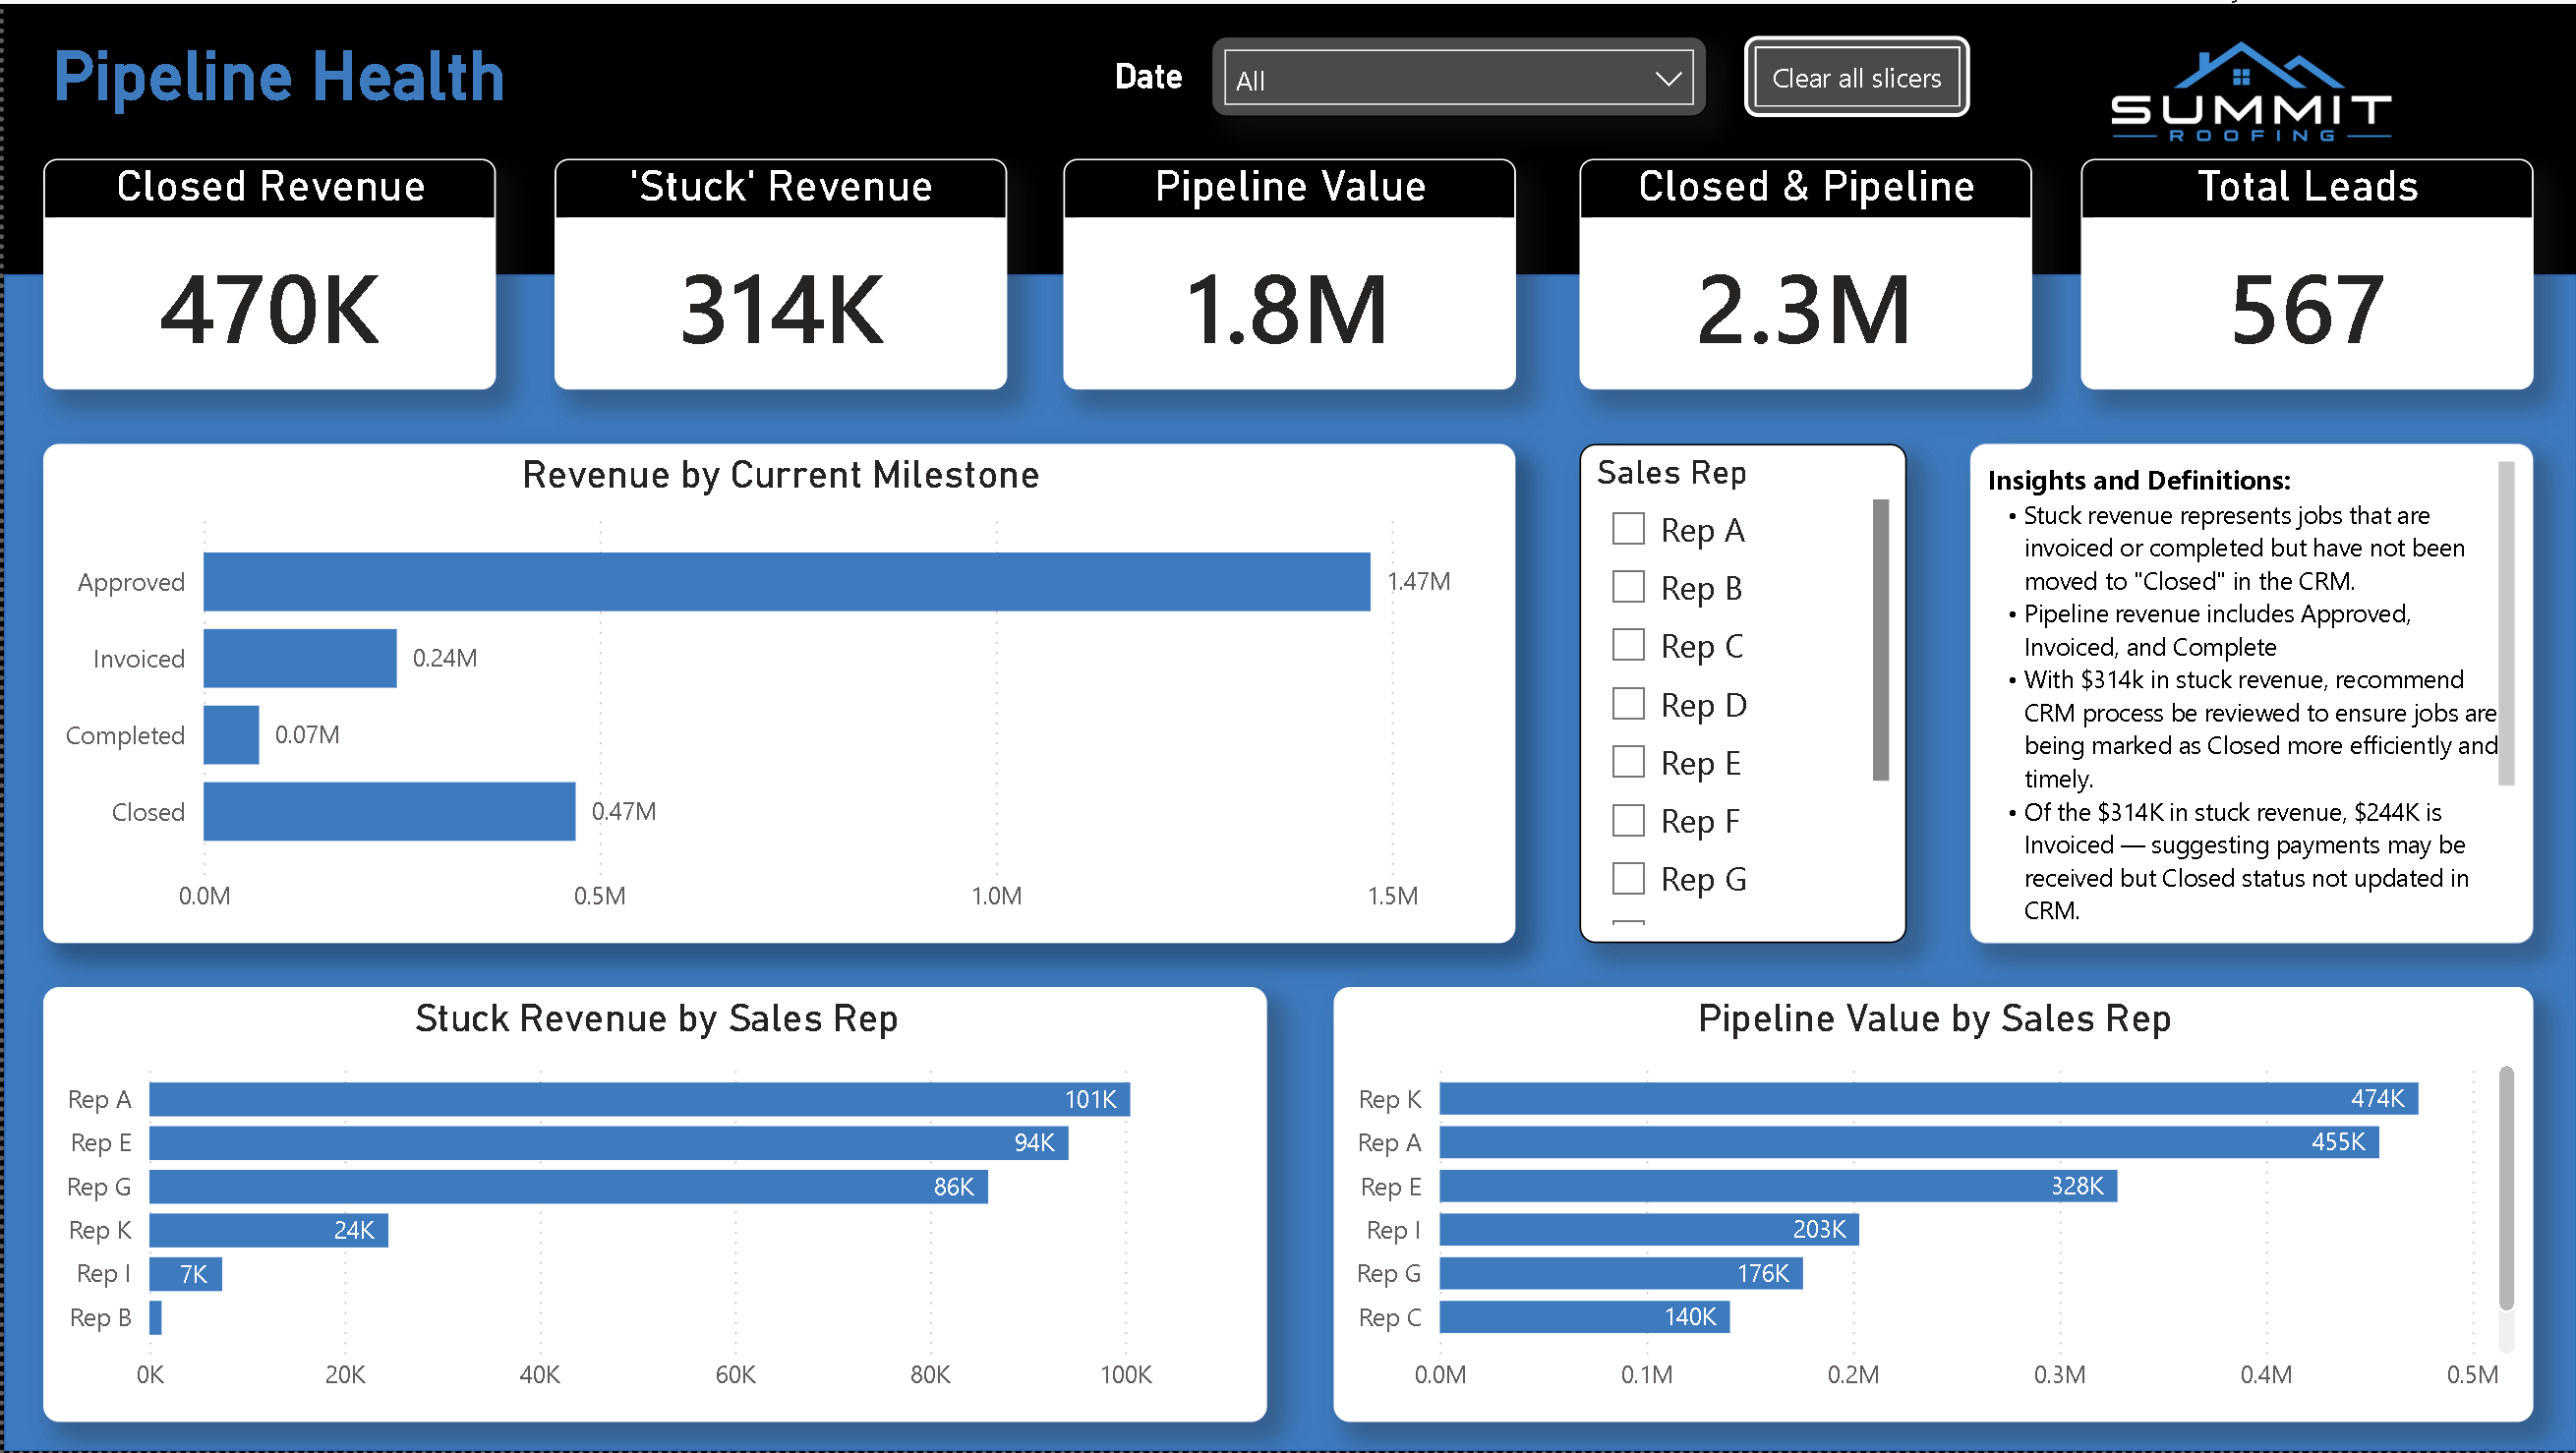

What the dashboard file says about the page in this screenshot:
{"tool":"powerbi","page":{"name":"Pipeline Health","canvas":[1280,720],"ordinal":0},"visuals":[{"type":"image","box":[978.3,11,280,66],"z":0},{"type":"shape","box":[0,134.5,1280.3,585.7],"z":1000},{"type":"cardVisual","title":"Total Leads","fields":{"Data":["leads.Total Leads"]},"box":[1033.3,77,225,114.9],"z":2000},{"type":"cardVisual","title":"Pipeline Value","fields":{"Data":["leads.Pipeline Value dax"]},"box":[527,77,225,114.9],"z":3000},{"type":"cardVisual","title":"Closed Revenue","fields":{"Data":["leads.Closed Revenue"]},"box":[19.6,77,225,114.9],"z":4000},{"type":"cardVisual","title":"Closed & Pipeline","fields":{"Data":["leads.Total Committed Revenue"]},"box":[783.8,77,225,114.9],"z":5000},{"type":"clusteredBarChart","title":"Revenue by Current Milestone","fields":{"Category":["leads.current_milestone"],"Y":["Sum(leads.contract_total)"]},"box":[19.6,218.9,732.5,248.2],"z":6000},{"type":"clusteredBarChart","title":"Stuck Revenue by Sales Rep","fields":{"Category":["sales_reps.full_name"],"Y":["leads.Stuck Revenue"]},"box":[19.6,489.1,609,216.4],"z":7000},{"type":"cardVisual","title":"''Stuck'' Revenue","fields":{"Data":["leads.Stuck Revenue"]},"box":[273.9,77,225,114.9],"z":8000},{"type":"textbox","box":[19.6,11,551.5,57.5],"z":9000},{"type":"clusteredBarChart","title":"Pipeline Value by Sales Rep","fields":{"Y":["leads.Pipeline Value dax"],"Category":["sales_reps.full_name"]},"box":[661.6,489.1,596.7,216.4],"z":10000},{"type":"slicer","title":"Sales Rep","fields":{"Values":["sales_reps.full_name"]},"box":[783.8,218.9,162.6,248.2],"z":11000},{"type":"slicer","title":"Month","fields":{"Values":["Dim_Date.Month Name","Dim_Date.Quarter"]},"box":[600.4,15.9,247,40.4],"z":12000},{"type":"textbox","box":[539.3,20.8,61.1,39.1],"z":13000},{"type":"textbox","box":[978.3,218.9,280,248.2],"z":14000},{"type":"actionButton","box":[865.8,15.9,112.5,40.4],"z":15000}]}

Visuals, with their boxes in screenshot pixels (x1, y1, x2, y2), scaled from the page's 1280x720 canvas onto the 2576x1453 screenshot:
image: detection(1968, 23, 2533, 155)
shape: detection(0, 271, 2575, 1452)
"Total Leads" cardVisual: detection(2079, 155, 2533, 387)
"Pipeline Value" cardVisual: detection(1061, 155, 1513, 387)
"Closed Revenue" cardVisual: detection(39, 155, 493, 387)
"Closed & Pipeline" cardVisual: detection(1577, 155, 2030, 387)
"Revenue by Current Milestone" clusteredBarChart: detection(39, 441, 1513, 943)
"Stuck Revenue by Sales Rep" clusteredBarChart: detection(39, 987, 1265, 1424)
"''Stuck'' Revenue" cardVisual: detection(552, 155, 1004, 387)
textbox: detection(39, 23, 1149, 139)
"Pipeline Value by Sales Rep" clusteredBarChart: detection(1331, 987, 2533, 1424)
"Sales Rep" slicer: detection(1577, 441, 1904, 943)
"Month" slicer: detection(1208, 32, 1706, 114)
textbox: detection(1085, 42, 1208, 121)
textbox: detection(1968, 441, 2533, 943)
actionButton: detection(1742, 32, 1968, 114)
